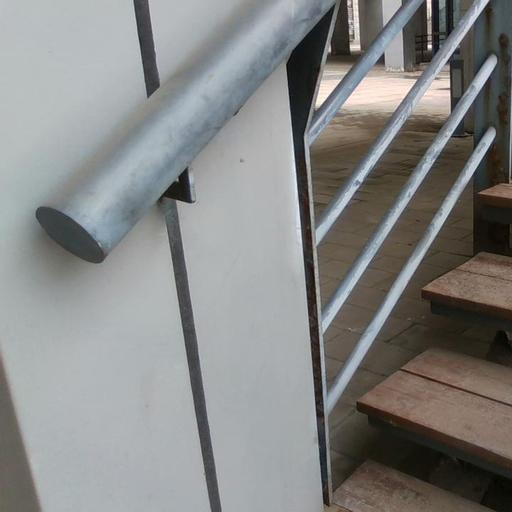stairs: (358, 349, 511, 477), (333, 461, 489, 511), (422, 252, 511, 329), (477, 183, 511, 223)
